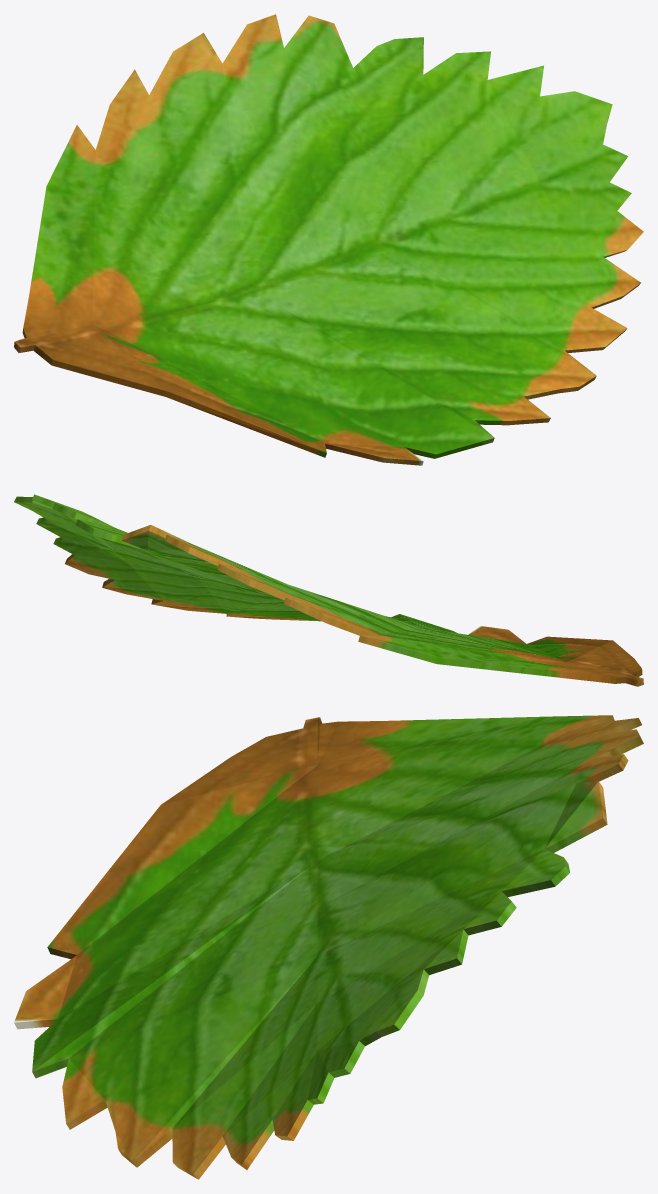
Rendered from leaf3_s2.dae.
The picture shows the model from 3 angles, top to bottom: view 1: azimuth 30°, elevation 25°; view 2: azimuth 150°, elevation 25°; view 3: azimuth 270°, elevation 25°; orthographic projection. The views are drawn at different scales.
Visible parts, largest first — view 1: Plane; view 2: Plane; view 3: Plane.
Boxes of the visible parts, x1=… form: Plane: x1=14, y1=14, x2=643, y2=465; Plane: x1=14, y1=494, x2=643, y2=686; Plane: x1=14, y1=715, x2=643, y2=1179.
Bounding box in the file's own units: 0.1376 × 0.0946 × 0.055.
1 material, 1 textured.
